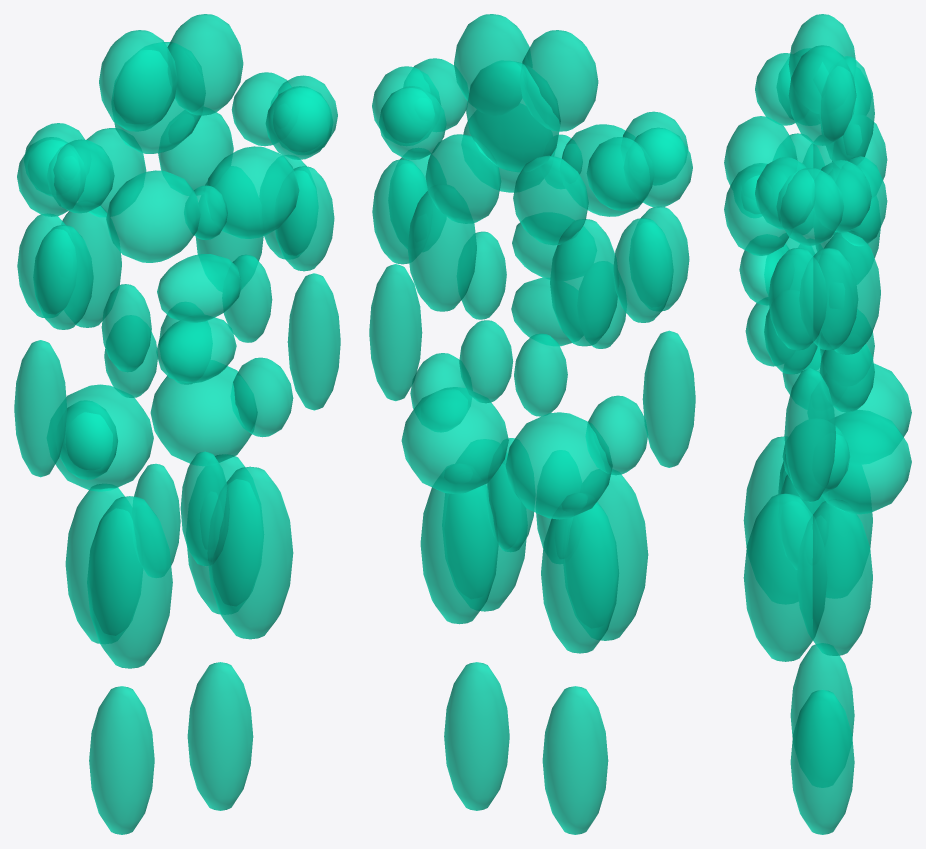
File: human_body_sci_fi.glb
3 renders of one model, left to right at view 1: azimuth 30°, elevation 25°; view 2: azimuth 150°, elevation 25°; view 3: azimuth 270°, elevation 25°, orthographic. The views are drawn at different scales.
Parts seen in each view (by area): view 1: quads, calves, hamstrings, abs, glutes, traps, chest, forearms, biceps, adductors, shoulders_side, shoulders_front (+7 smaller); view 2: hamstrings, quads, glutes, traps, calves, lats, forearms, upper_back, triceps, shoulders_side, shoulders_rear, abductors (+7 smaller); view 3: quads, calves, hamstrings, traps, glutes, chest, shoulders_front, forearms, biceps, triceps, shoulders_side, abs (+7 smaller).
Part boxes in pixels (<box>): quads: <box>87,466,293,668</box>; calves: <box>89,662,253,834</box>; hamstrings: <box>65,454,262,643</box>; abs: <box>101,254,272,383</box>; glutes: <box>55,366,257,491</box>; traps: <box>99,14,243,153</box>; chest: <box>106,146,299,262</box>; forearms: <box>14,273,340,477</box>; biceps: <box>33,166,334,329</box>; adductors: <box>133,451,229,577</box>; shoulders_side: <box>17,75,337,216</box>; shoulders_front: <box>47,86,333,213</box>; hamstrings: <box>420,464,619,653</box>; quads: <box>444,464,648,640</box>; glutes: <box>401,387,612,519</box>; traps: <box>454,14,598,172</box>; calves: <box>444,662,608,834</box>; lats: <box>407,185,618,346</box>; forearms: <box>369,264,695,467</box>; upper_back: <box>425,134,588,245</box>; triceps: <box>372,159,673,322</box>; shoulders_side: <box>372,66,692,207</box>; shoulders_rear: <box>379,86,654,210</box>; abductors: <box>410,353,647,475</box>; quads: <box>743,436,827,661</box>; calves: <box>790,644,854,834</box>; hamstrings: <box>797,499,872,655</box>; traps: <box>788,14,874,165</box>; glutes: <box>821,363,911,514</box>; chest: <box>724,116,797,255</box>; shoulders_front: <box>755,53,814,229</box>; forearms: <box>784,245,835,502</box>; biceps: <box>768,133,827,350</box>; triceps: <box>799,143,858,350</box>; shoulders_side: <box>776,58,843,245</box>; abs: <box>739,237,817,374</box>.
Size of the model in its own units: 0.584 by 1.39 by 0.305.
